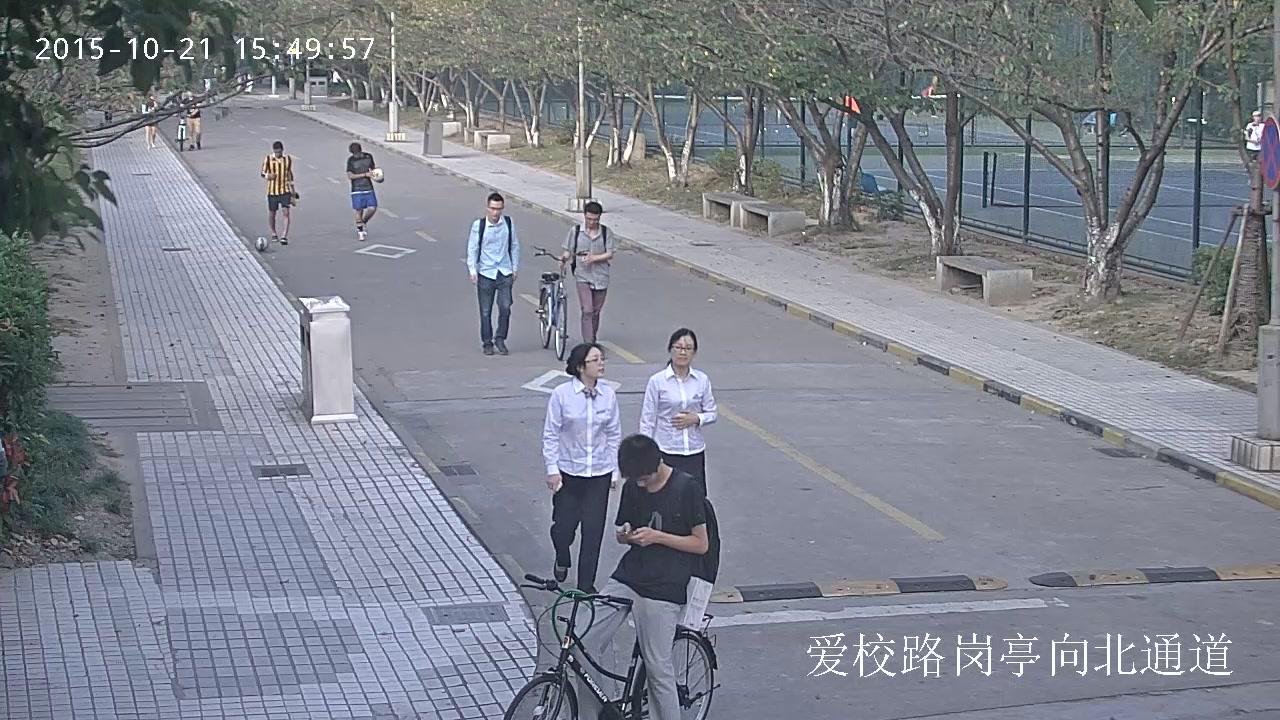face: (671, 335, 694, 365), (583, 347, 604, 377), (636, 472, 658, 486), (488, 200, 502, 220), (585, 211, 600, 227), (273, 148, 281, 157), (353, 151, 360, 157), (1253, 116, 1260, 121), (149, 94, 154, 99), (186, 91, 191, 95)
